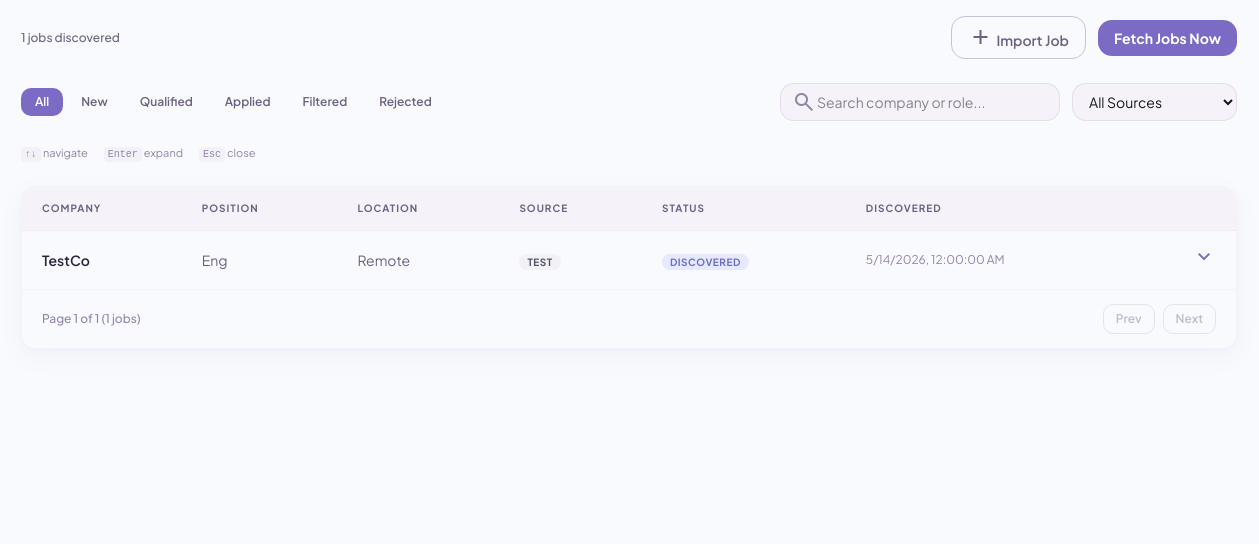
it: TailoredResumeCell mutation-error display › renders the delete error under the TAILORED-verdict button
The image size is (1259, 544).
Click the text "TestCo".
click(66, 260)  # box [22,230,182,289]
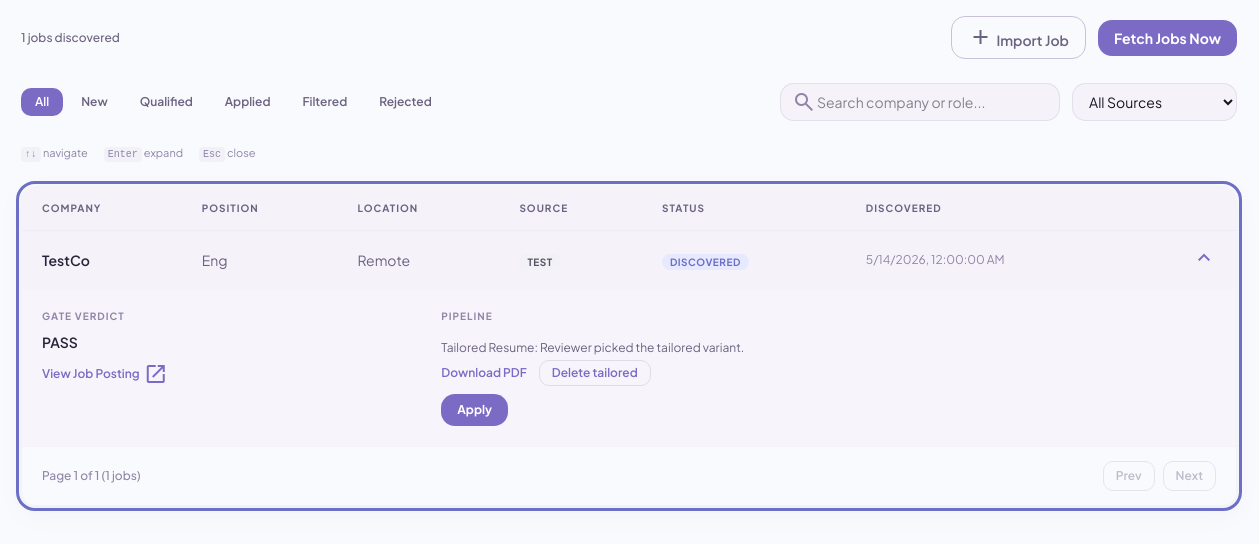
Click the button "Delete tailored".
click(595, 373)  # box [539,360,651,386]
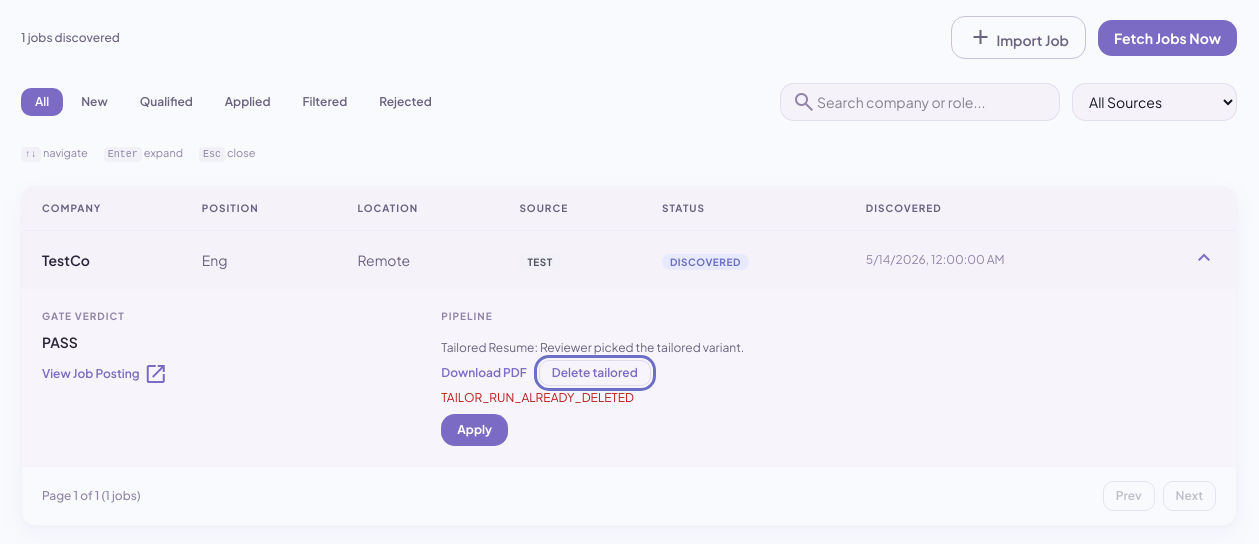
Result: the text "TAILOR_RUN_ALREADY_DELETED" is shown at [441,390,634,405]
